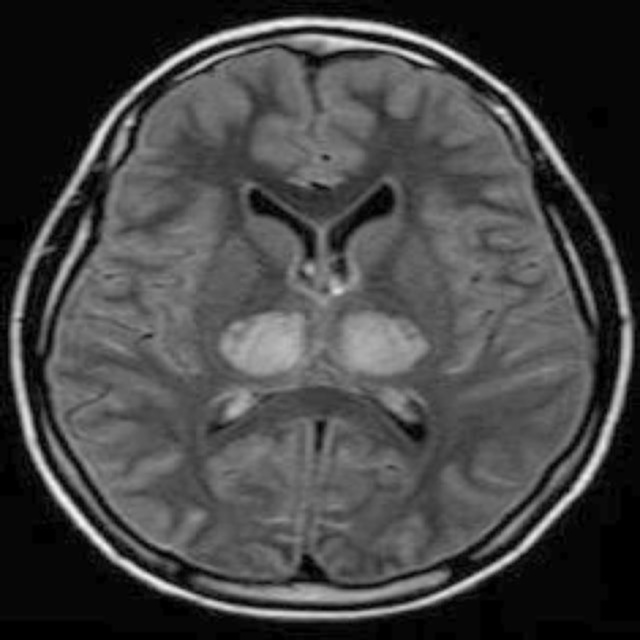glioma tumor: (128, 70, 504, 546)
